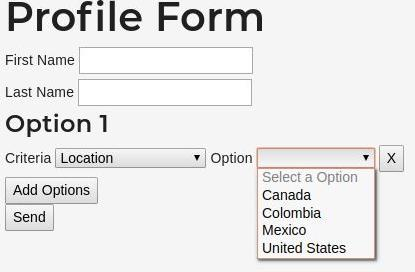button: (4, 176, 98, 204), (4, 204, 54, 232)
checkbox_with_label: (5, 43, 255, 76), (5, 76, 257, 108), (4, 144, 208, 171), (211, 145, 378, 171)
field: (76, 77, 255, 107), (76, 46, 254, 75), (54, 146, 206, 169), (255, 146, 377, 169)
